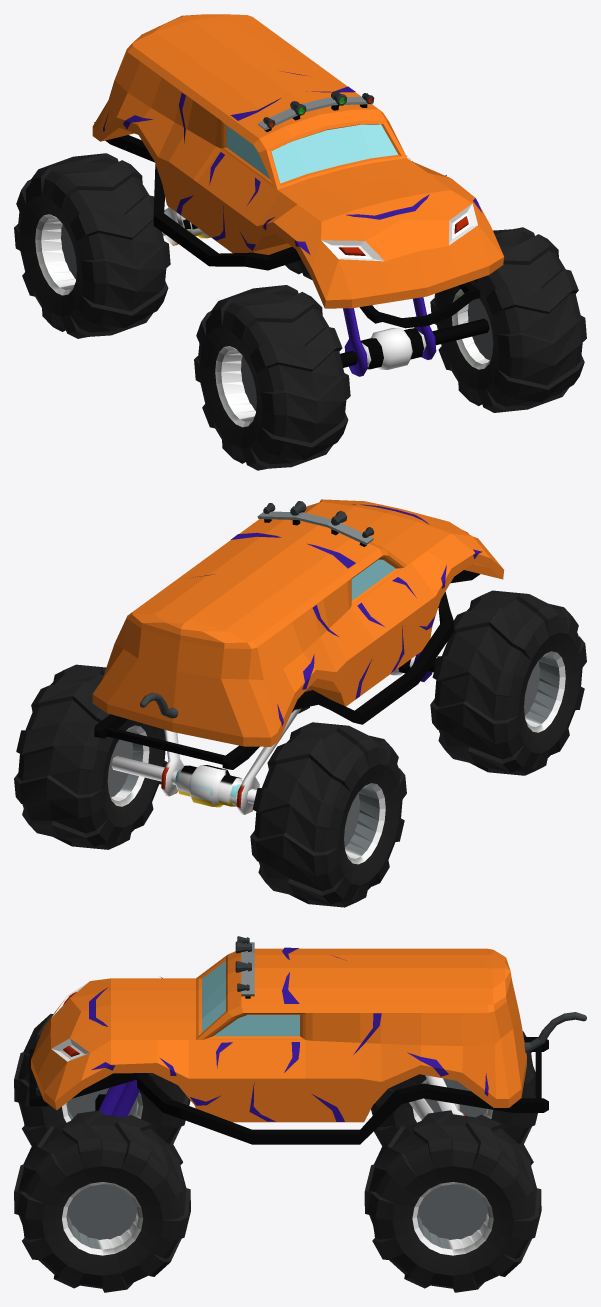
The model's file is Leopard.fbx.
3 views of the same model, one above another, from view 1: azimuth 30°, elevation 25°; view 2: azimuth 150°, elevation 25°; view 3: azimuth 270°, elevation 25° (orthographic). The views are drawn at different scales.
Visible parts, largest first — view 1: Monster_Truck_Body, Wheel_FR, Wheel_RR, Wheel_FL, Axel Front; view 2: Monster_Truck_Body, Wheel_RR, Wheel_FR, Wheel_RL, Axel Back; view 3: Monster_Truck_Body, Wheel_RL, Wheel_FL, Wheel_FR, Wheel_RR, Axel Front, Axel Back, Monster_Truck_Livery.
Part boxes in pixels (x1,y1,x2,y2): Monster_Truck_Body: (92, 14, 503, 328); Wheel_FR: (194, 285, 350, 470); Wheel_RR: (14, 153, 170, 338); Wheel_FL: (430, 227, 586, 412); Axel Front: (340, 297, 489, 376); Monster_Truck_Body: (92, 499, 503, 769); Wheel_RR: (250, 722, 406, 907); Wheel_FR: (430, 590, 586, 775); Wheel_RL: (14, 664, 167, 849); Axel Back: (111, 708, 300, 814); Monster_Truck_Body: (29, 936, 548, 1144); Wheel_RL: (364, 1110, 541, 1292); Wheel_FL: (14, 1110, 190, 1292); Wheel_FR: (14, 1014, 190, 1145); Wheel_RR: (371, 1031, 537, 1145); Axel Front: (95, 1073, 148, 1117); Axel Back: (409, 1075, 467, 1119); Monster_Truck_Livery: (524, 1012, 586, 1052).
Size of the model in its own units: 485 by 409 by 777.
